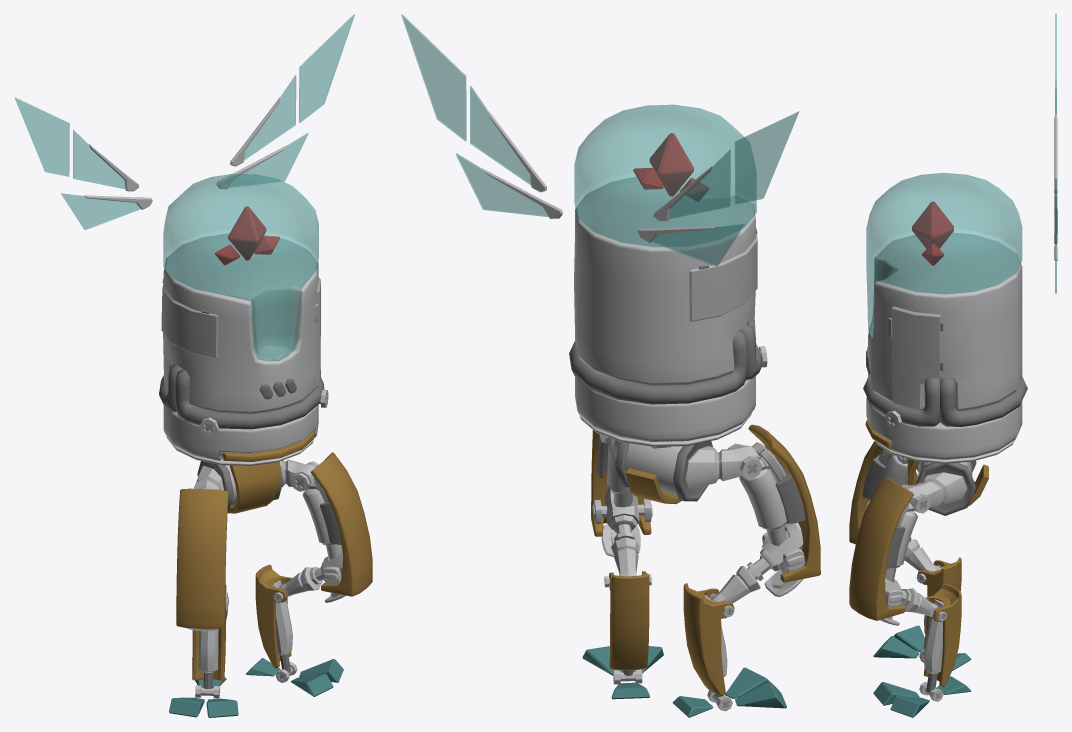
The model's file is robotBoy.fbx.
3 renders of one model, left to right at view 1: azimuth 30°, elevation 25°; view 2: azimuth 150°, elevation 25°; view 3: azimuth 270°, elevation 25°, orthographic. The views are drawn at different scales.
Parts seen in each view (by area): view 1: pCylinder15, pCylinder23, pCube4, polySurface32, polySurface35, polySurface40, pCylinder12, polySurface28, polySurface36, polySurface38, polySurface43, polySurface26 (+10 smaller); view 2: pCylinder15, pCylinder23, pCylinder18, polySurface28, pCube1, polySurface35, polySurface40, pCube9, pCylinder16, polySurface33, pCube4, polySurface36 (+11 smaller); view 3: pCylinder15, pCylinder23, polySurface32, polySurface28, pCube23, polySurface8, pCylinder32, polySurface26, polySurface25, pCylinder16, pCube11, pCylinder18 (+6 smaller).
Part boxes in pixels (x1=…): pCylinder15: x1=159, y1=233, x2=328, y2=465; pCylinder23: x1=163, y1=173, x2=318, y2=361; pCube4: x1=176, y1=488, x2=228, y2=628; polySurface32: x1=311, y1=452, x2=372, y2=596; polySurface35: x1=299, y1=14, x2=354, y2=122; polySurface40: x1=14, y1=97, x2=69, y2=176; pCylinder12: x1=227, y1=461, x2=280, y2=513; polySurface28: x1=255, y1=564, x2=292, y2=668; polySurface36: x1=230, y1=75, x2=296, y2=166; polySurface38: x1=216, y1=133, x2=308, y2=188; polySurface43: x1=61, y1=193, x2=152, y2=229; polySurface26: x1=291, y1=461, x2=342, y2=559; pCylinder15: x1=569, y1=177, x2=767, y2=446; pCylinder23: x1=574, y1=104, x2=756, y2=247; pCylinder18: x1=728, y1=442, x2=805, y2=545; polySurface28: x1=609, y1=571, x2=649, y2=670; pCube1: x1=683, y1=583, x2=734, y2=696; polySurface35: x1=401, y1=14, x2=466, y2=141; polySurface40: x1=734, y1=111, x2=799, y2=204; pCube9: x1=711, y1=522, x2=805, y2=603; pCylinder16: x1=615, y1=441, x2=712, y2=501; polySurface33: x1=592, y1=487, x2=652, y2=576; pCube4: x1=748, y1=424, x2=820, y2=582; polySurface36: x1=470, y1=86, x2=546, y2=192; pCylinder15: x1=863, y1=233, x2=1027, y2=463; pCylinder23: x1=866, y1=173, x2=1022, y2=334; polySurface32: x1=849, y1=476, x2=913, y2=620; polySurface28: x1=923, y1=583, x2=961, y2=686; pCube23: x1=912, y1=201, x2=953, y2=265; polySurface8: x1=873, y1=676, x2=971, y2=717; pCylinder32: x1=919, y1=599, x2=947, y2=701; polySurface26: x1=885, y1=484, x2=930, y2=582; polySurface25: x1=903, y1=472, x2=967, y2=510; pCylinder16: x1=915, y1=460, x2=976, y2=515; pCube11: x1=873, y1=625, x2=971, y2=670; pCylinder18: x1=862, y1=449, x2=907, y2=499.
Size of the model in its own units: 10.43 by 17.19 by 5.57.
